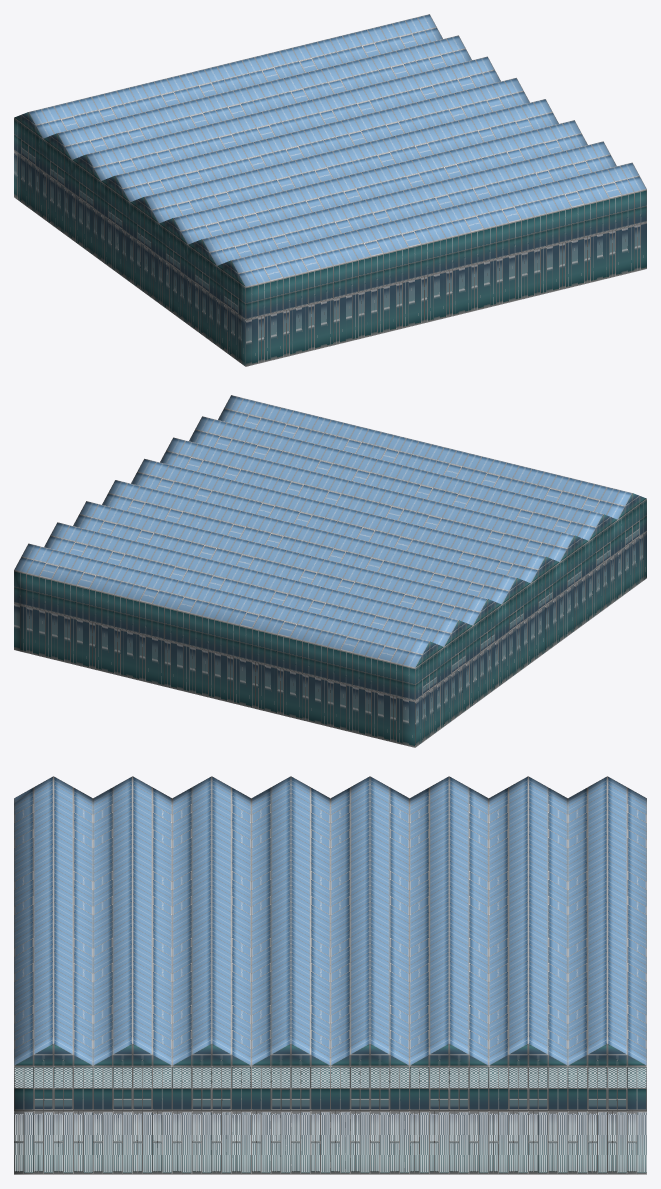
The model's file is kas_mod3_4a.fbx.
3 views of the same model, one above another, from view 1: azimuth 30°, elevation 25°; view 2: azimuth 150°, elevation 25°; view 3: azimuth 270°, elevation 25° (orthographic). The views are drawn at different scales.
Visible parts, largest first — view 1: kas_mod3_4a; view 2: kas_mod3_4a; view 3: kas_mod3_4a.
Part boxes in pixels (box(x1,y1,x2,y2)): kas_mod3_4a: box(14, 14, 646, 366); kas_mod3_4a: box(14, 395, 646, 747); kas_mod3_4a: box(14, 776, 646, 1174).
Bounding box in the file's own units: 8000 × 1829 × 8000.
